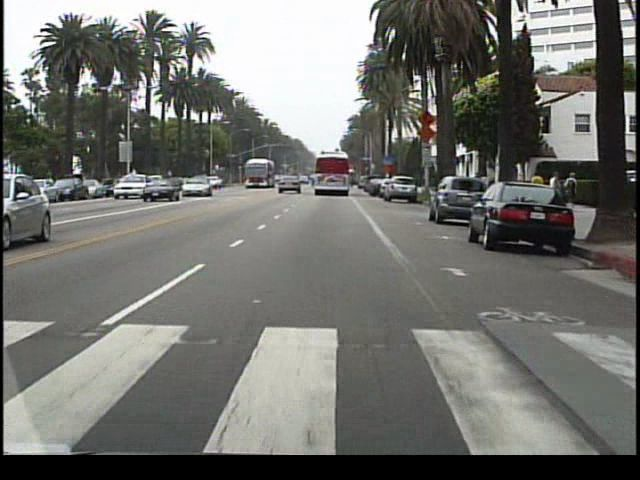person: (471, 168, 484, 198)
